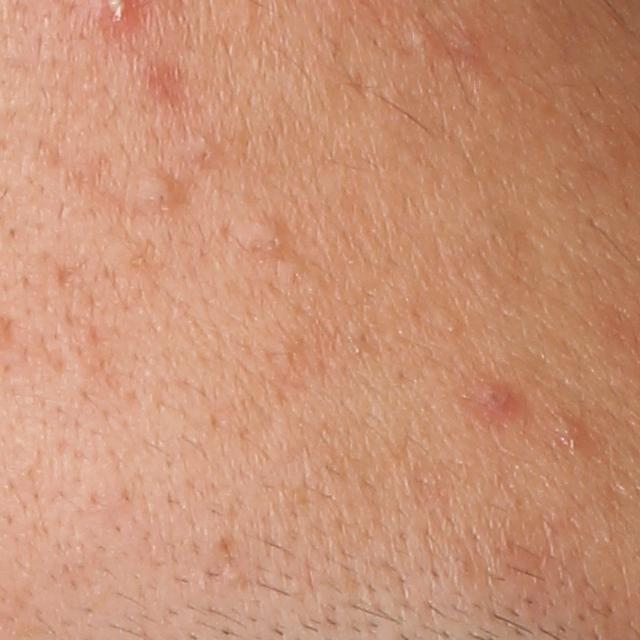comedo: (136, 173, 185, 216), (246, 218, 285, 261), (184, 134, 218, 171)
papule: (466, 386, 519, 420)
